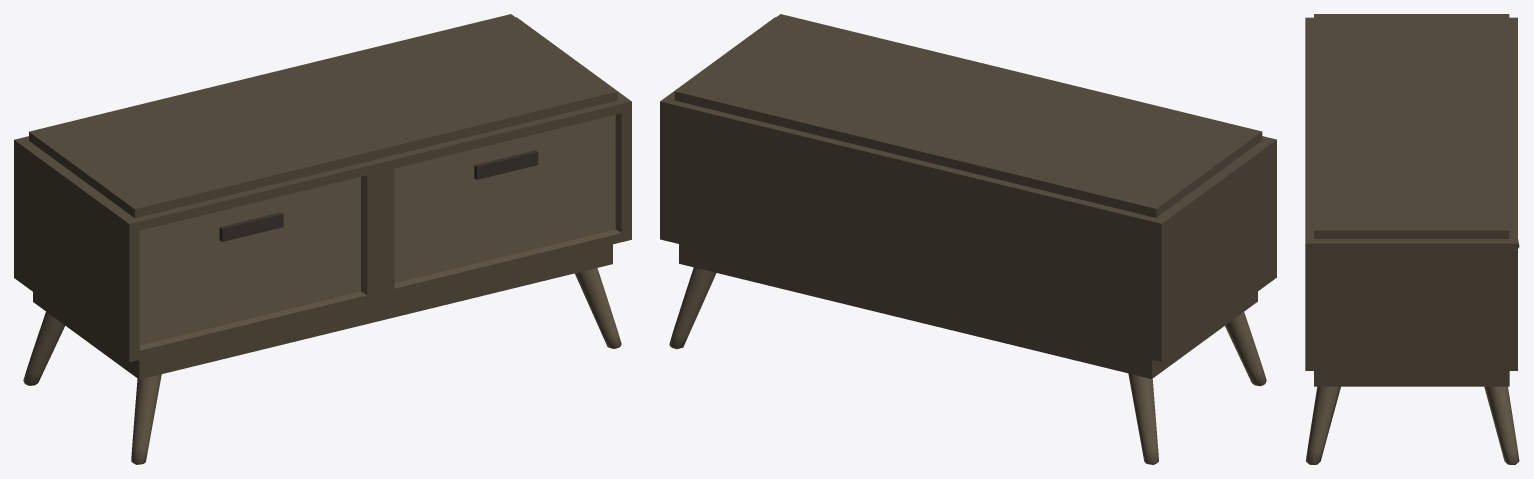
Rendered from Drawer_1.glb.
3 renders of one model, left to right at view 1: azimuth 30°, elevation 25°; view 2: azimuth 150°, elevation 25°; view 3: azimuth 270°, elevation 25°, orthographic. The views are drawn at different scales.
Visible parts, largest first — view 1: Drawer_1_Cube.051; view 2: Drawer_1_Cube.051; view 3: Drawer_1_Cube.051.
Boxes of the visible parts, bbox=[...] form: Drawer_1_Cube.051: bbox=[14, 14, 631, 464]; Drawer_1_Cube.051: bbox=[660, 14, 1276, 464]; Drawer_1_Cube.051: bbox=[1305, 14, 1519, 464].
Size of the model in its own units: 2.79 by 1.35 by 1.12.
